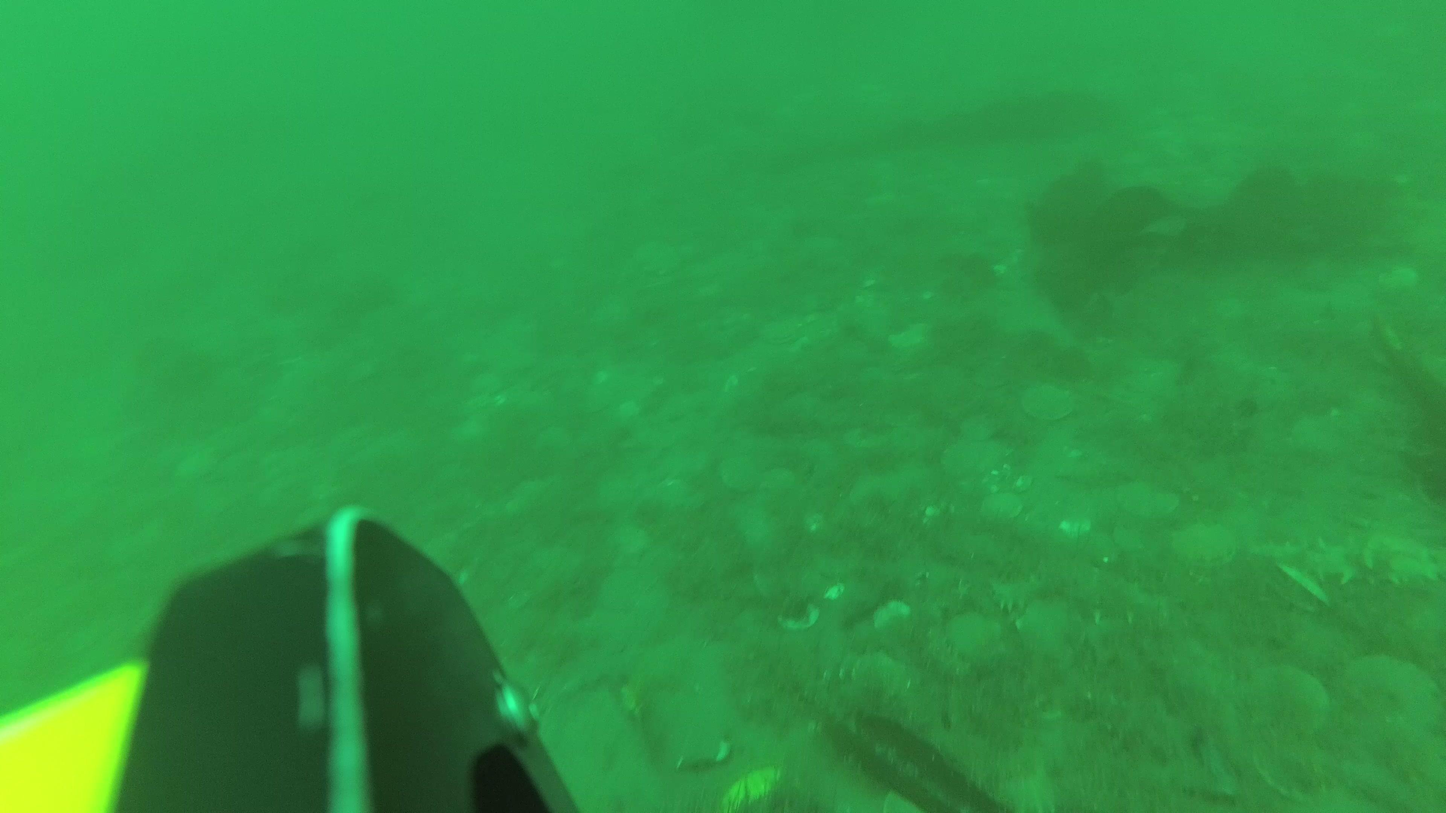echinus: (1267, 534, 1446, 602)
scallop: (1335, 652, 1443, 745), (1245, 664, 1331, 744), (1171, 518, 1239, 572), (942, 606, 1002, 661), (1113, 476, 1180, 524), (941, 434, 1007, 481), (1020, 381, 1079, 428), (718, 454, 767, 493), (960, 411, 1001, 448), (981, 494, 1023, 527)
